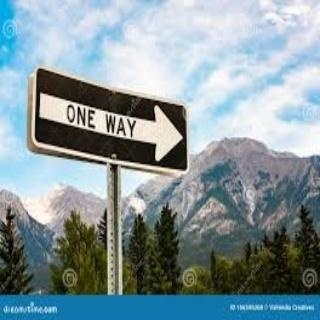sign_oneway_right: (35, 99, 182, 168)
